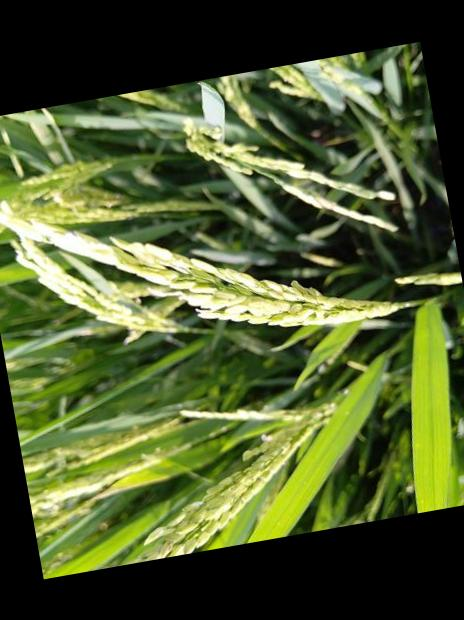Panicle Blight: (154, 536, 176, 554), (292, 286, 305, 299), (139, 553, 150, 561)
